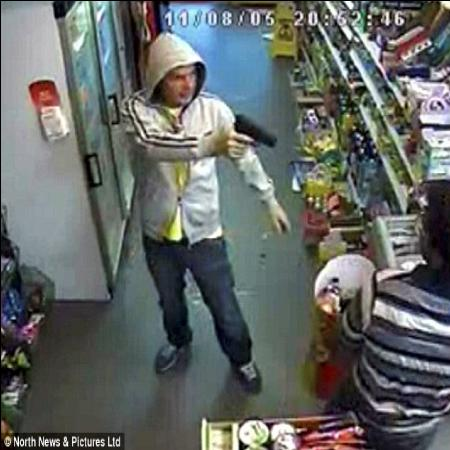Pistol: (230, 108, 276, 157)
